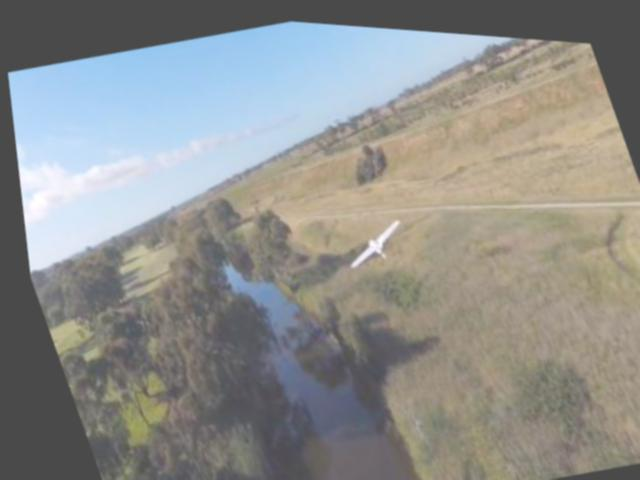uav: (330, 210, 411, 271)
